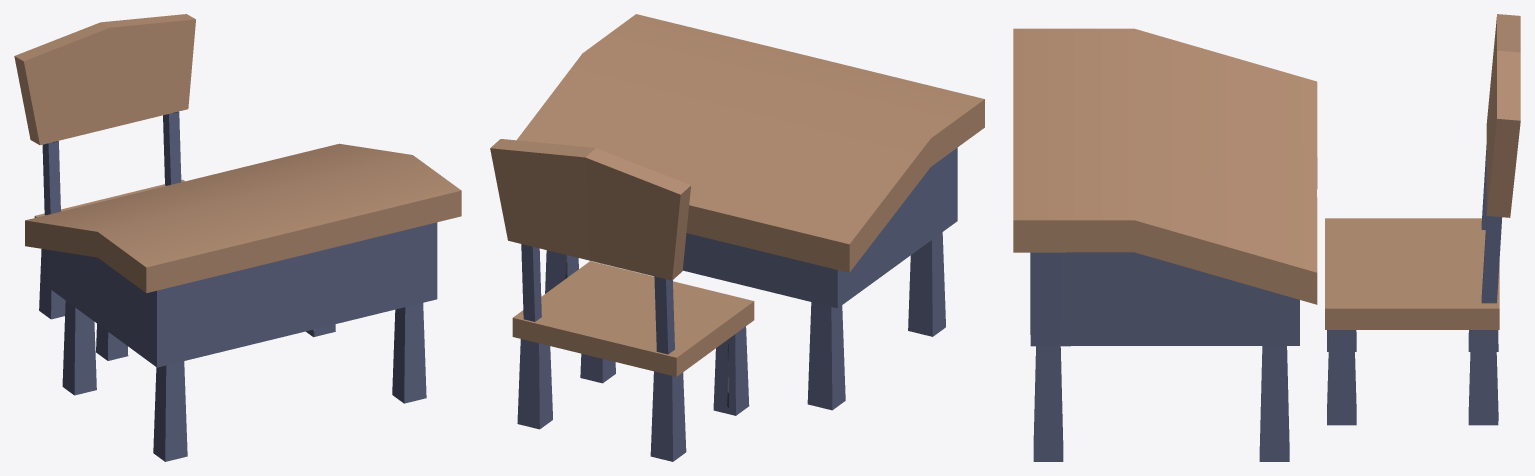
The model's file is BenchChair_GEO.fbx.
3 renders of one model, left to right at view 1: azimuth 30°, elevation 25°; view 2: azimuth 150°, elevation 25°; view 3: azimuth 270°, elevation 25°, orthographic. The views are drawn at different scales.
Parts seen in each view (by area): view 1: Cube; view 2: Cube; view 3: Cube.
Boxes of the visible parts, x1,y1,x2,y2 form: Cube: (14, 14, 461, 461); Cube: (490, 14, 984, 461); Cube: (1013, 14, 1520, 461).
Size of the model in its own units: 172 by 192 by 138.
Materials: 1 (1 with a texture image).
